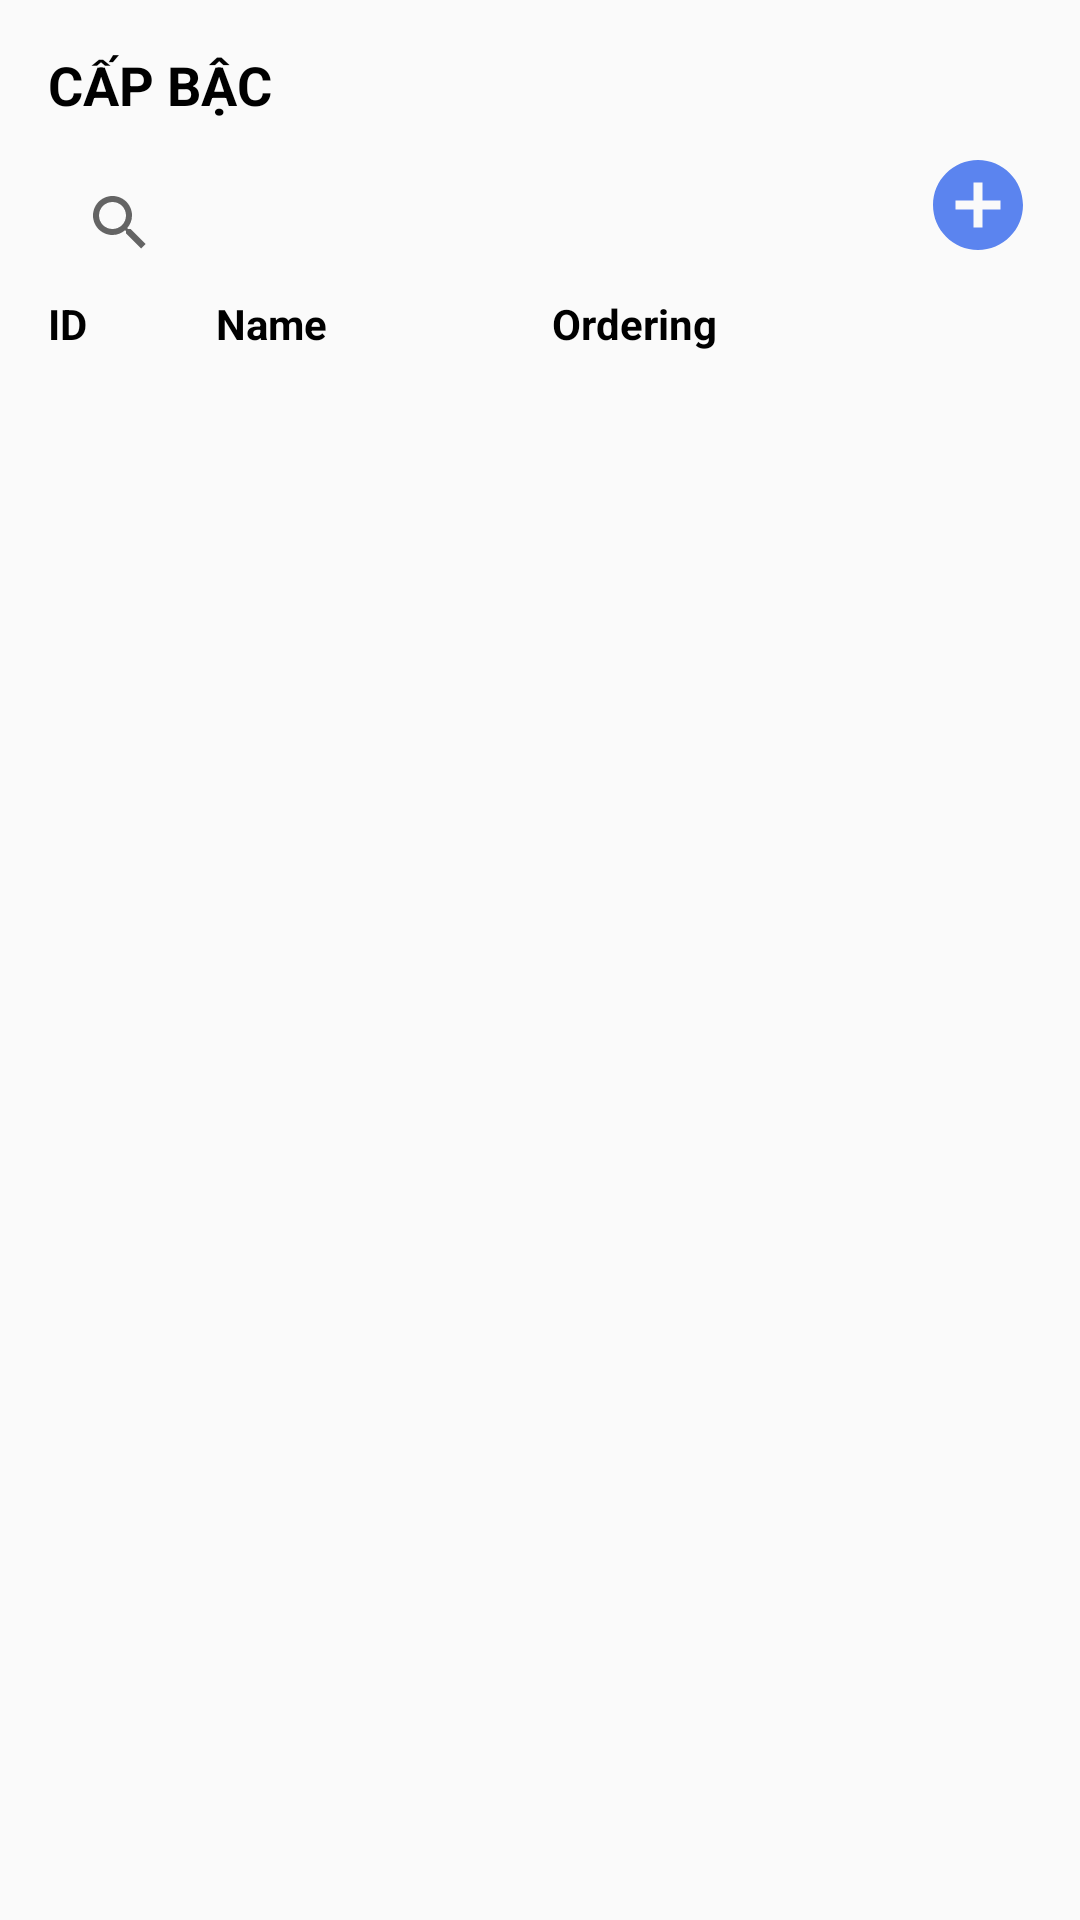

Point at icon controls on the screen. Image size 1080×1920, points as [x,y].
add circle: [978,205]
